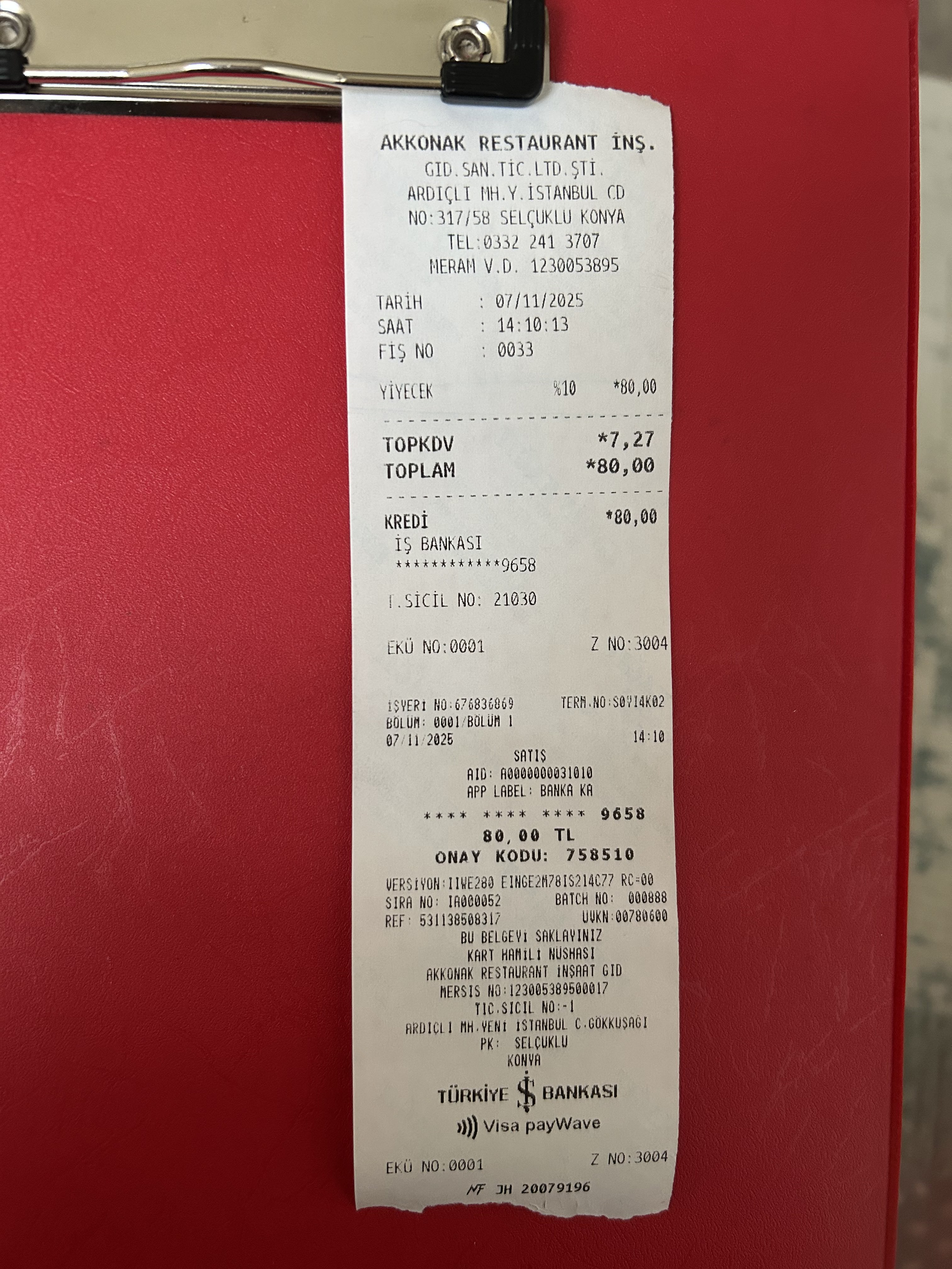date: (596, 453, 658, 480)
price: (493, 290, 588, 312)
workplace: (366, 125, 663, 226)
